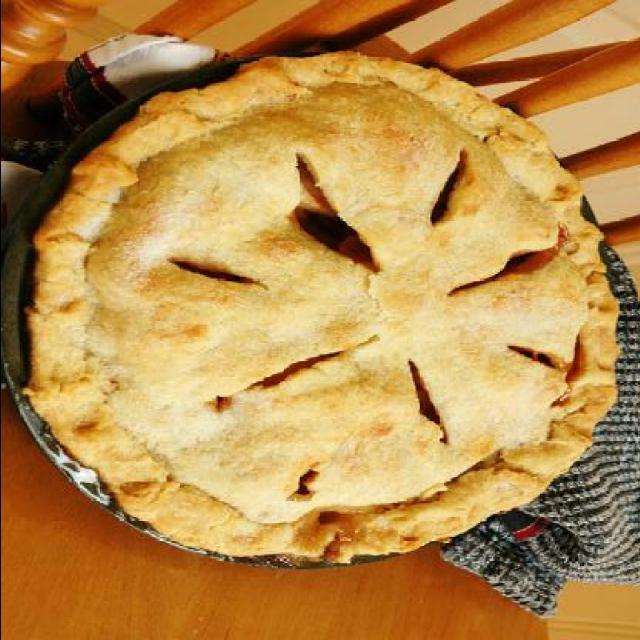Apple: (35, 46, 613, 560)
